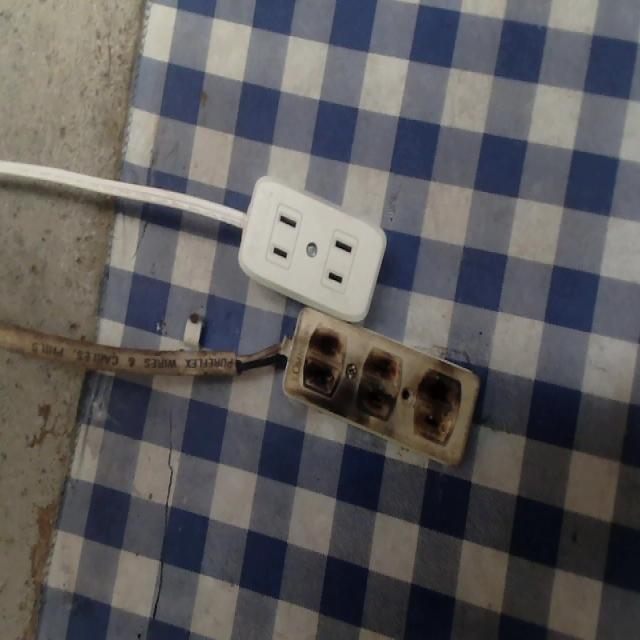-: (409, 365, 463, 451), (299, 322, 346, 410), (353, 343, 400, 425)
